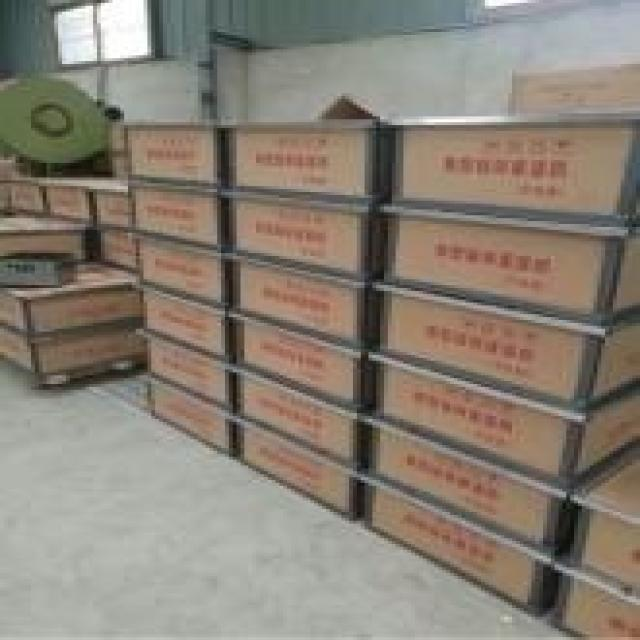box: (376, 291, 640, 416), (376, 367, 640, 492), (388, 215, 640, 326), (365, 483, 559, 617), (396, 125, 640, 224), (372, 431, 559, 553), (233, 259, 361, 352), (233, 201, 365, 282), (237, 375, 353, 465), (229, 128, 372, 201), (0, 262, 140, 335), (240, 323, 353, 410), (240, 428, 349, 518), (0, 323, 147, 375), (140, 288, 229, 364), (128, 186, 225, 250), (147, 335, 229, 410), (136, 239, 225, 308), (124, 122, 217, 186), (151, 381, 229, 454), (0, 218, 93, 259), (43, 183, 89, 221), (97, 227, 132, 271), (93, 189, 132, 227)
